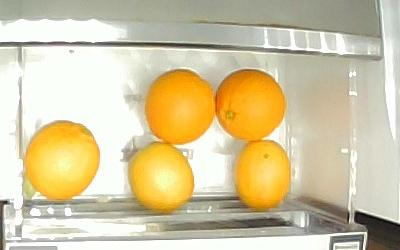orange: (24, 120, 100, 201), (145, 68, 215, 145), (215, 68, 286, 142), (129, 141, 194, 215), (233, 139, 290, 210)
